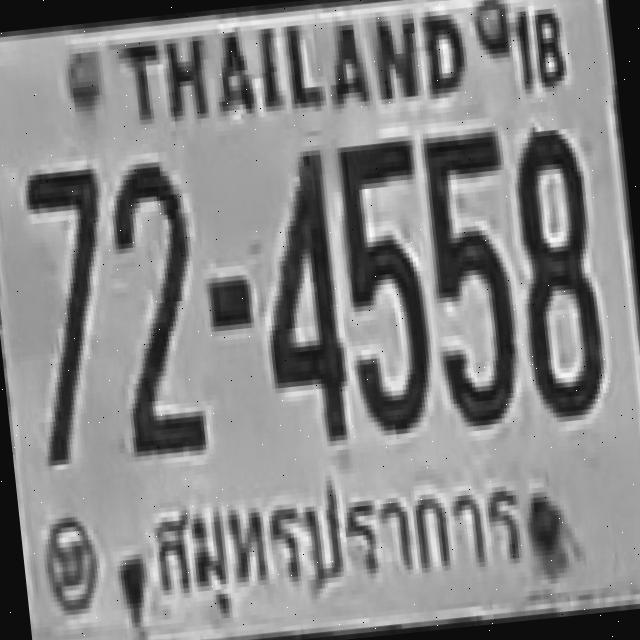2: (100, 155, 206, 452)
4: (248, 142, 350, 439)
5: (329, 130, 438, 433), (416, 124, 524, 426)
7: (17, 161, 123, 463)
8: (504, 123, 606, 414)
SamutPrakan: (139, 453, 537, 616)
